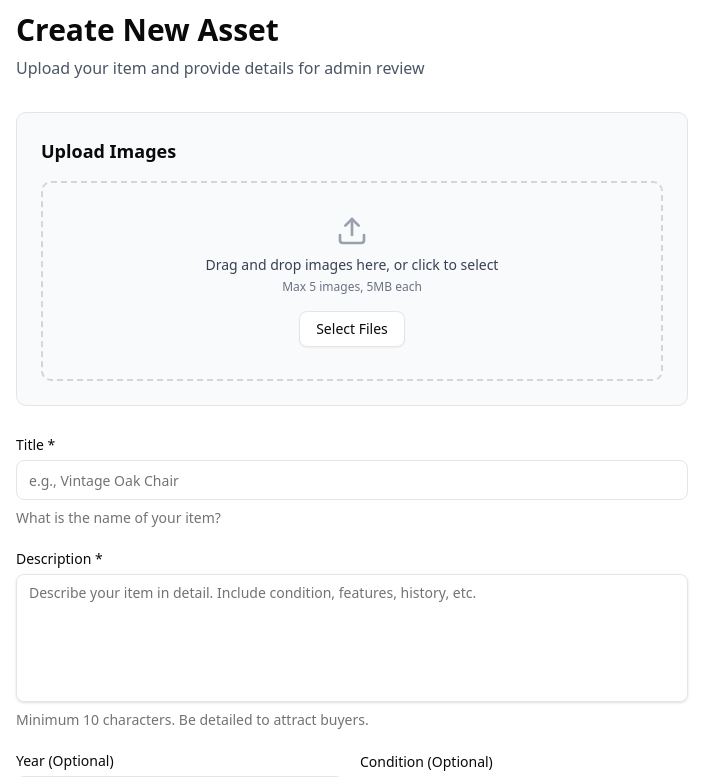
Test: CreateAssetForm › validates required fields
The image size is (705, 777).
In the field with placeholder "e.g., Vintage Oak Chair": (352, 480) [16,460,688,500], type "A"
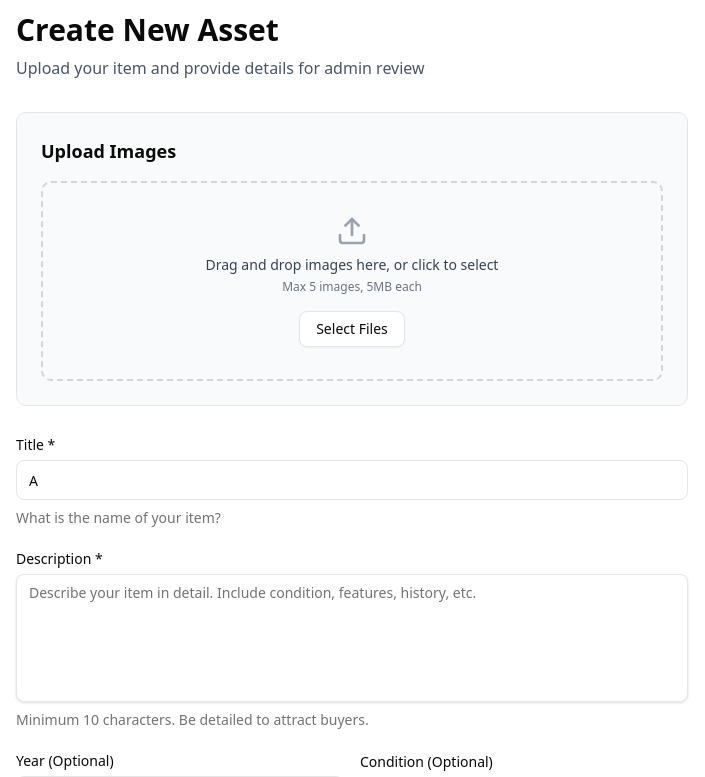
Leave the field with placeholder "e.g., Vintage Oak Chair", box [16,460,688,500]
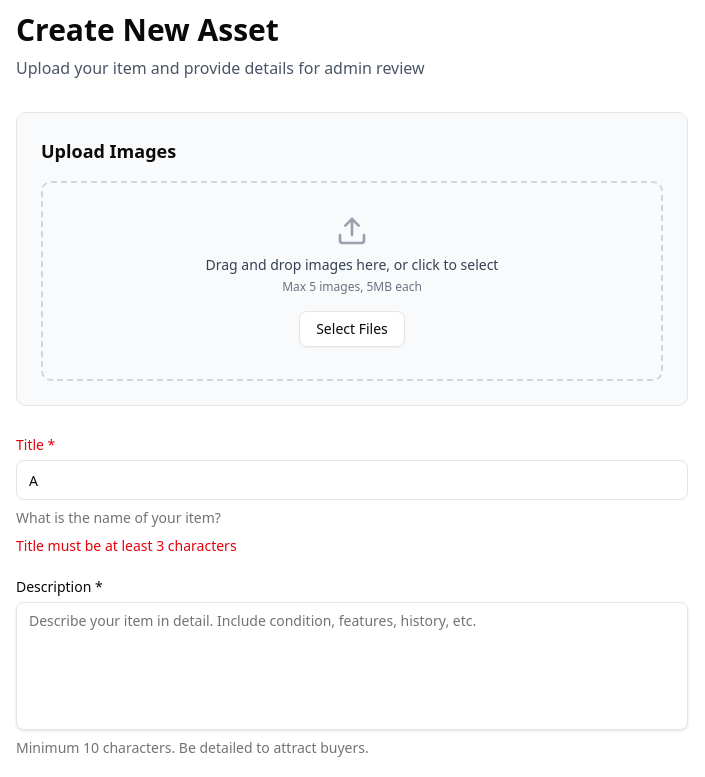
Now the text "Title must be at least 3 characters" is shown, box [16,536,237,555]
